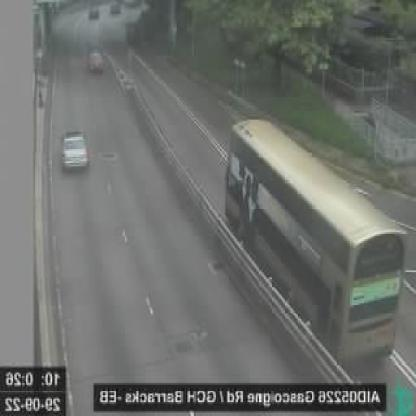Bus: (221, 116, 411, 373)
Car: (63, 120, 92, 178), (88, 45, 106, 78)
